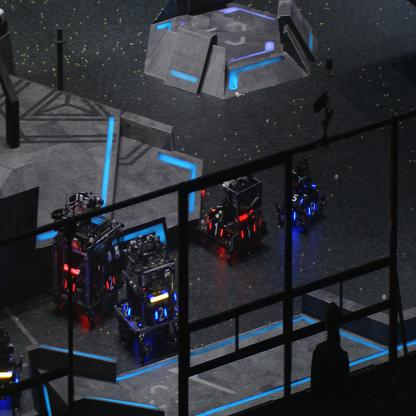car: (48, 193, 125, 324), (116, 231, 182, 361), (196, 170, 267, 264), (276, 157, 326, 233), (0, 326, 23, 406)
